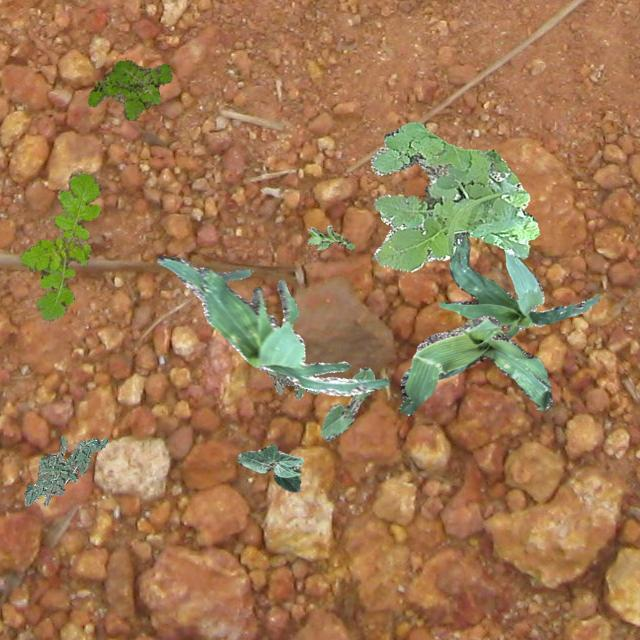crop: (156, 255, 388, 394), (438, 235, 598, 338), (398, 314, 552, 414), (320, 366, 374, 439), (235, 444, 302, 491)
weed: (370, 120, 538, 270), (19, 170, 100, 320), (23, 436, 106, 504), (88, 60, 172, 119), (266, 369, 318, 399), (306, 224, 354, 248)
